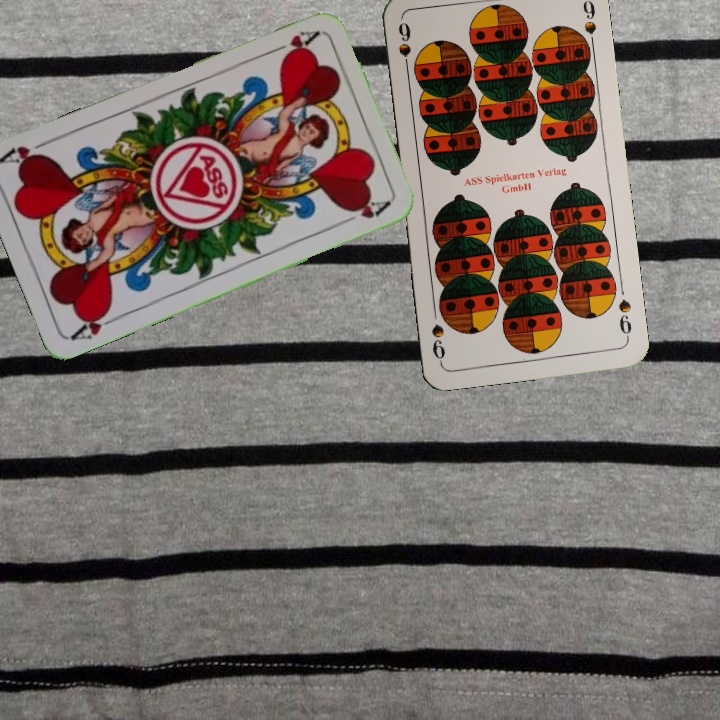HA: (67, 304, 124, 343), (264, 26, 321, 62)
S9: (394, 17, 414, 77), (614, 295, 635, 343)
